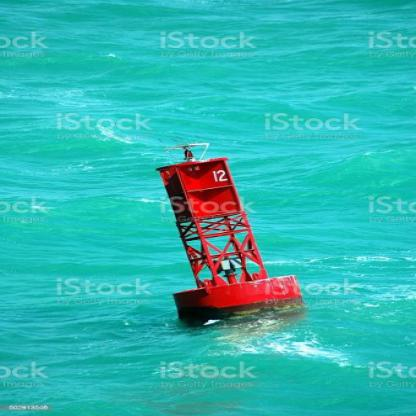buoy: (144, 133, 311, 327)
